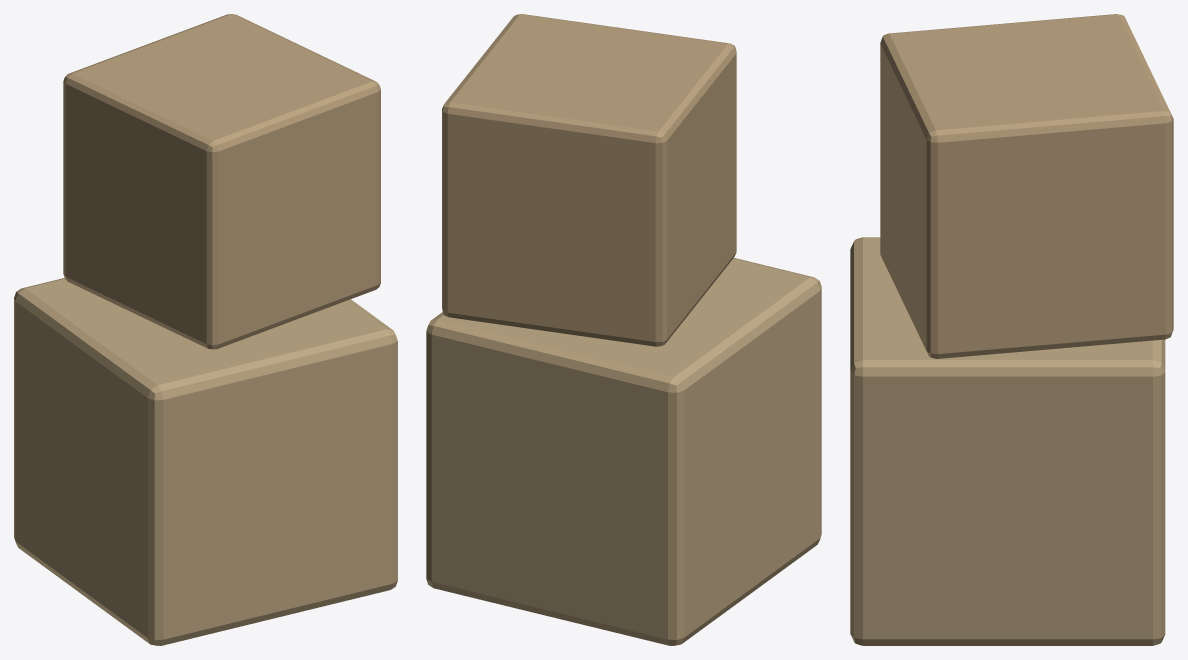
File: crate_stack.glb
3 views of the same model, side by side, from view 1: azimuth 30°, elevation 25°; view 2: azimuth 150°, elevation 25°; view 3: azimuth 270°, elevation 25° (orthographic). The views are drawn at different scales.
Visible parts, largest first — view 1: CrateBottom, CrateTop; view 2: CrateBottom, CrateTop; view 3: CrateBottom, CrateTop.
Boxes of the visible parts, x1=… form: CrateBottom: x1=14, y1=278, x2=397, y2=645; CrateTop: x1=63, y1=14, x2=380, y2=349; CrateBottom: x1=426, y1=258, x2=821, y2=645; CrateTop: x1=442, y1=14, x2=736, y2=346; CrateBottom: x1=850, y1=237, x2=1165, y2=645; CrateTop: x1=880, y1=14, x2=1173, y2=358.
Size of the model in its own units: 0.5328 by 0.92 by 0.5128.
